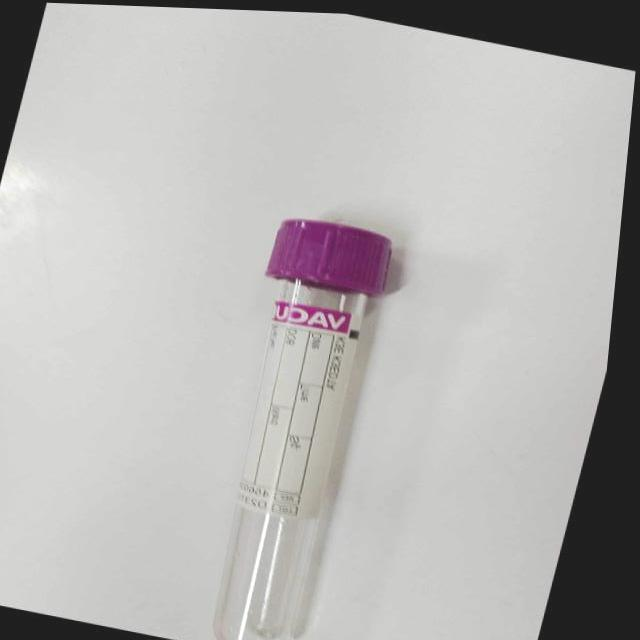Pathological: (1, 2, 635, 637)
Sharps: (210, 216, 393, 638)
